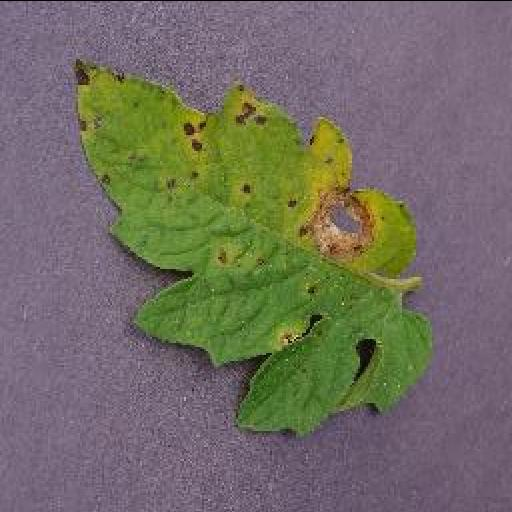disease_tomato: (72, 56, 434, 429)
